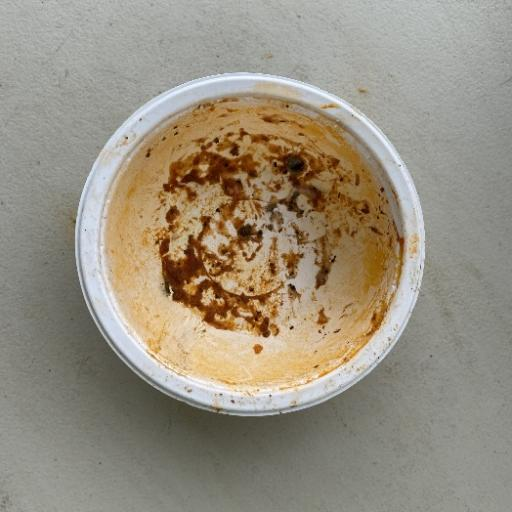Plastic: (75, 72, 426, 416)
